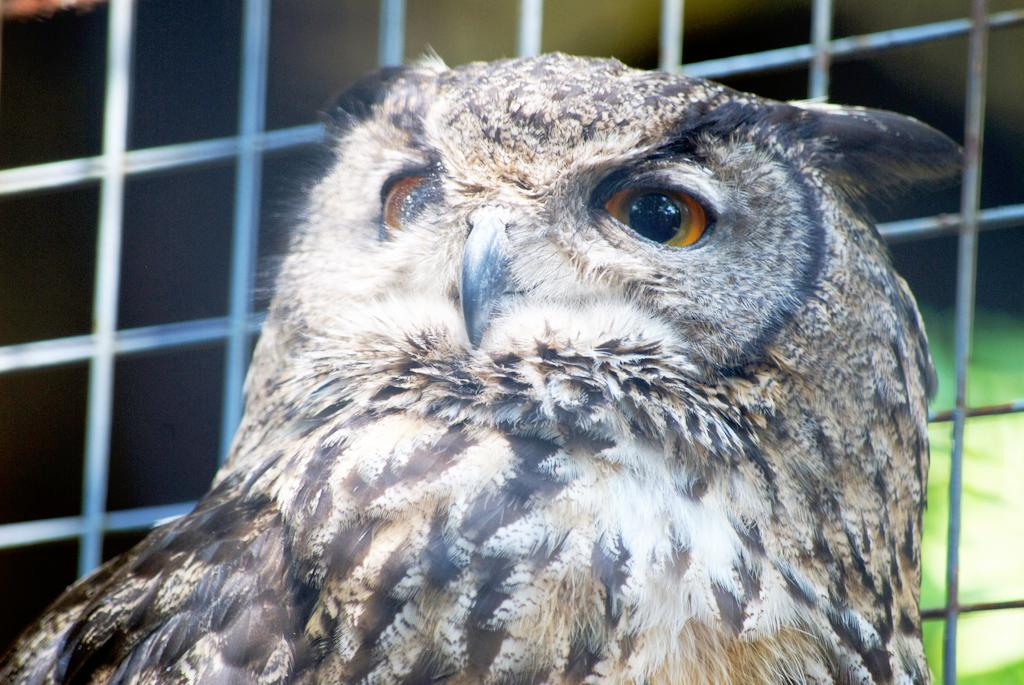Owl: (0, 25, 980, 684)
